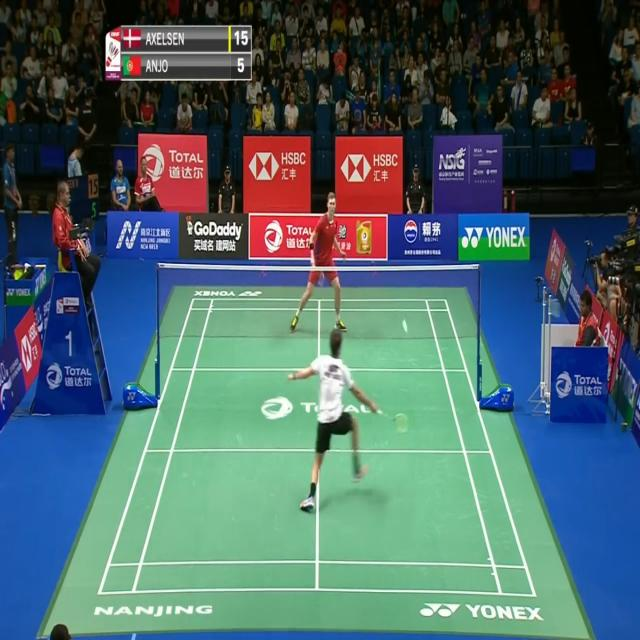Player1: (287, 323, 407, 513)
Player2: (291, 186, 356, 329)
